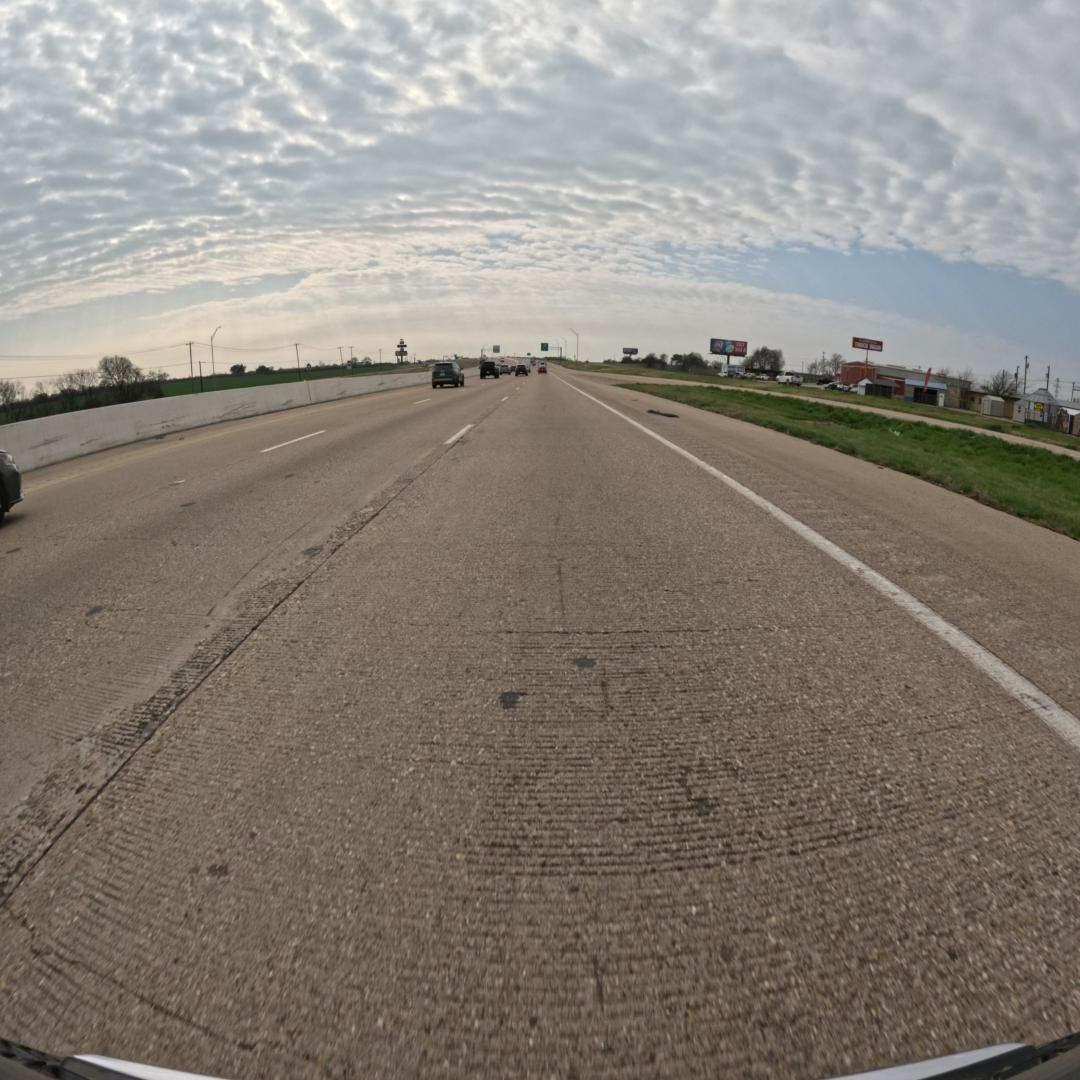lane0: (0, 376, 1080, 1077)
lane1: (0, 377, 517, 904)
